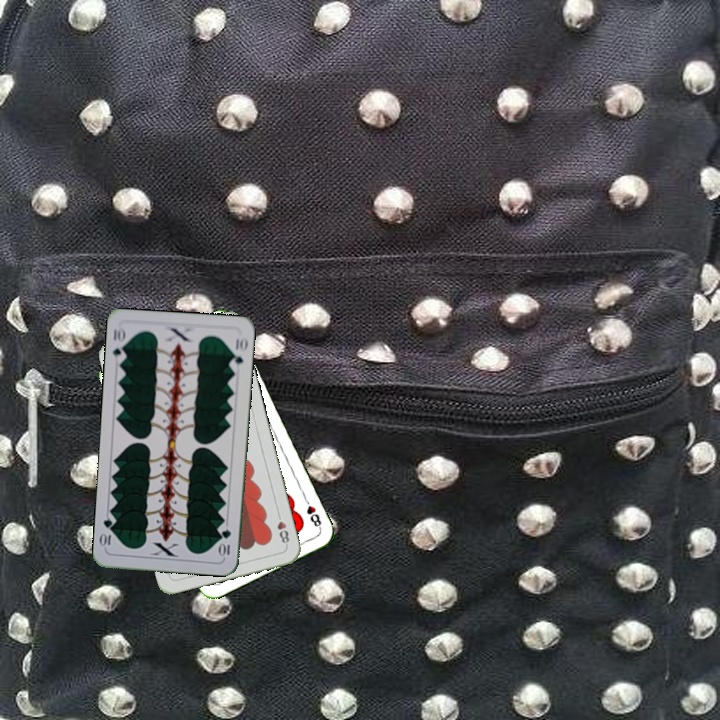G10: (109, 323, 129, 364), (217, 525, 233, 560)
H8: (300, 493, 324, 531), (273, 508, 292, 548)
